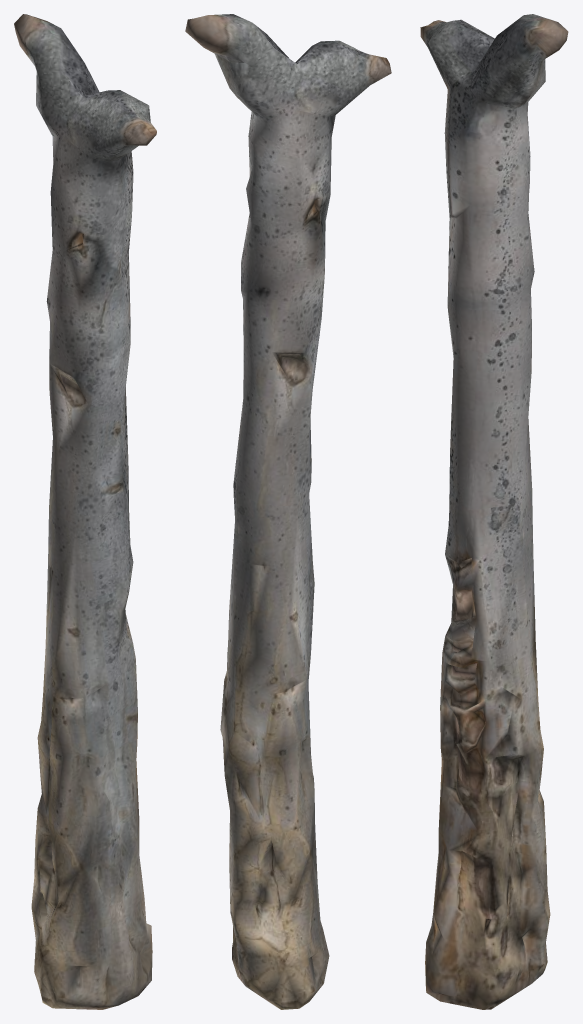
File: dead_quiver_trunk.glb
3 renders of one model, left to right at view 1: azimuth 90°, elevation 25°; view 2: azimuth 150°, elevation 25°; view 3: azimuth 270°, elevation 25°, orthographic. The views are drawn at different scales.
Parts seen in each view (by area): view 1: dead_quiver_trunk_LOD0; view 2: dead_quiver_trunk_LOD0; view 3: dead_quiver_trunk_LOD0.
Part boxes in pixels (box(x1,y1,x2,y2)): dead_quiver_trunk_LOD0: box(14, 14, 156, 1009); dead_quiver_trunk_LOD0: box(185, 14, 391, 1009); dead_quiver_trunk_LOD0: box(420, 14, 568, 1009).
Bounding box in the file's own units: 0.3045 × 1.99 × 0.2681.
Materials: 1 (1 with a texture image).
